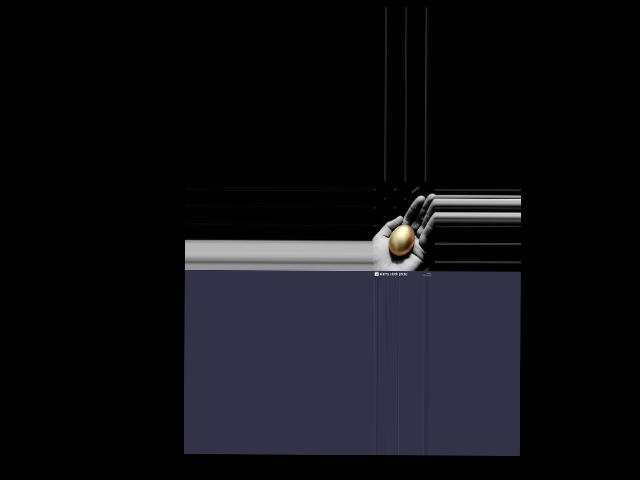egg: (389, 224, 415, 255)
